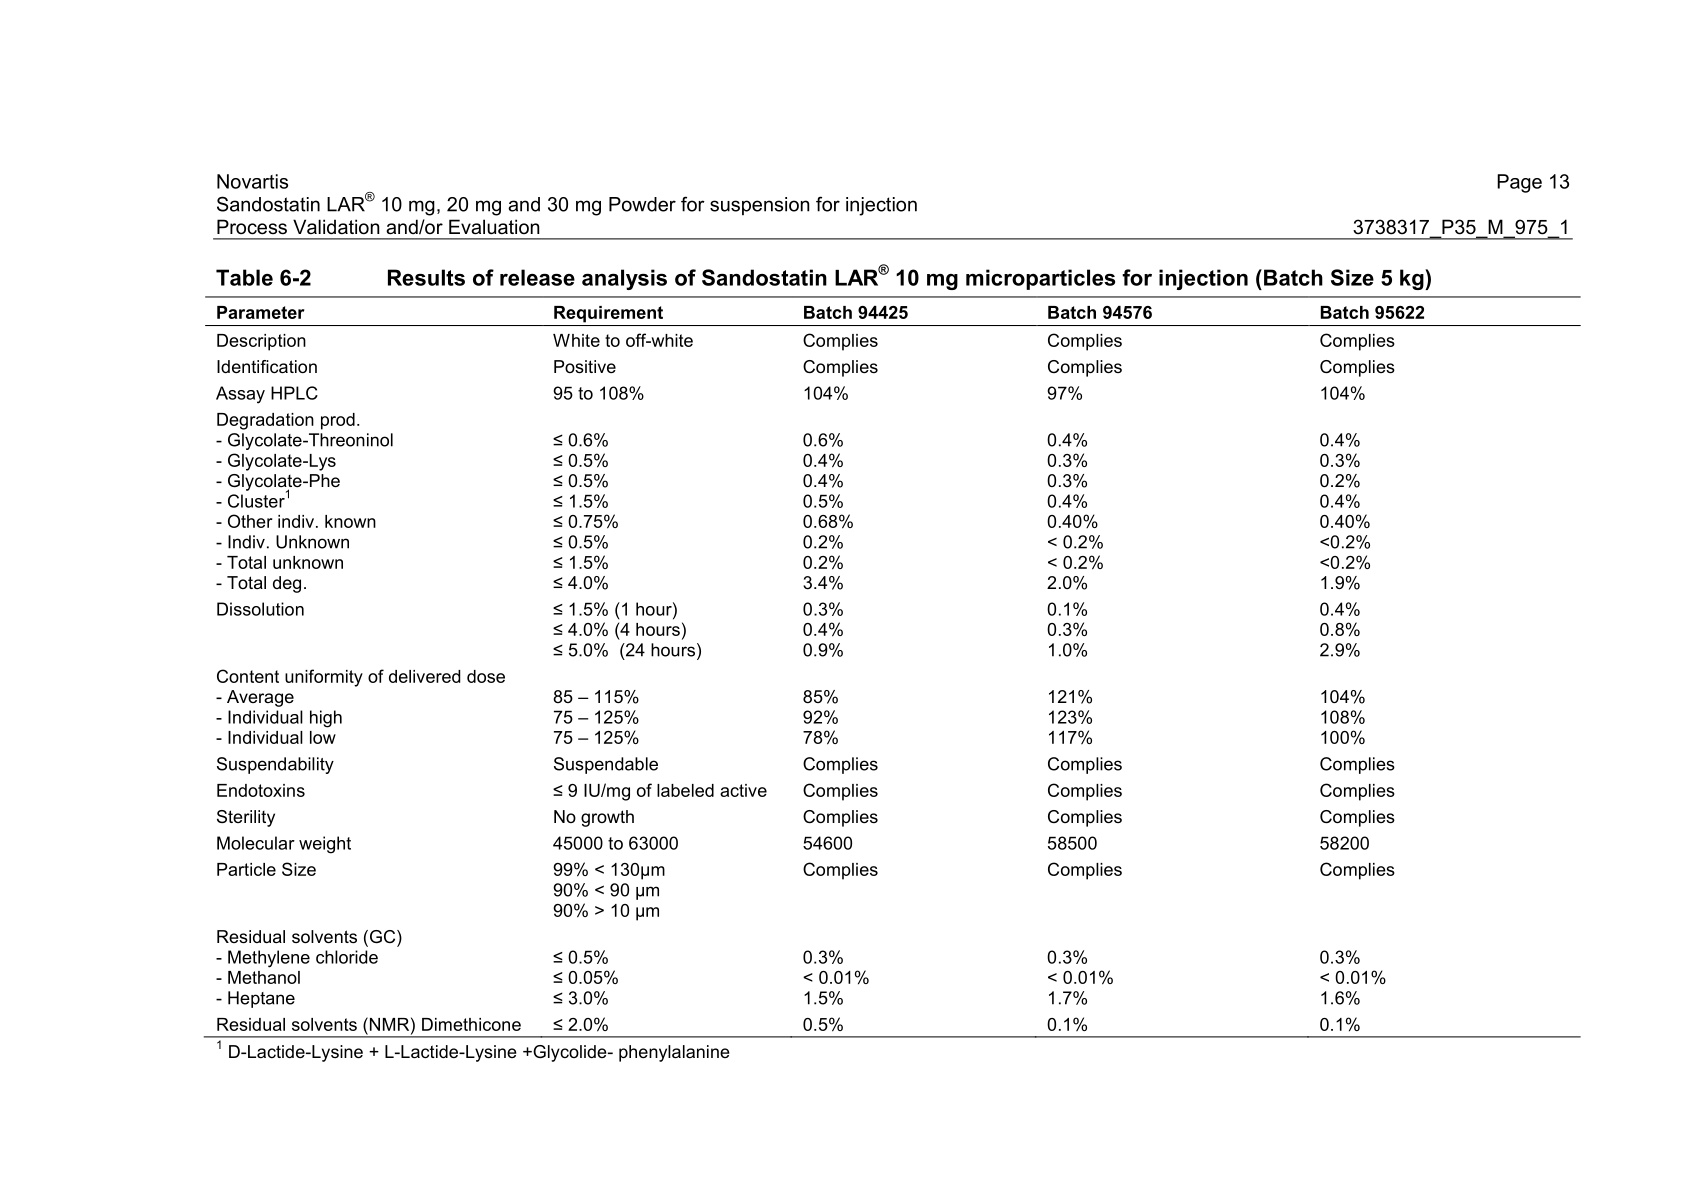partial_lined: (204, 294, 1581, 1038)
